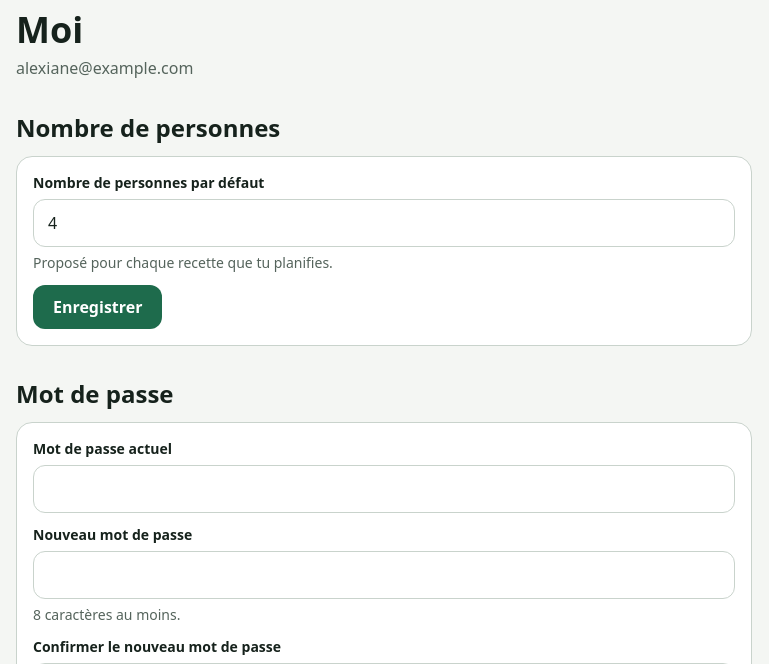
Test: réglages du compte › refuse moins d’une personne sans appeler le back
The width and height of the screenshot is (769, 664).
Replace the text in the number field labelled "Nombre de personnes par défaut" with "0": (384, 223) [33,199,735,247]
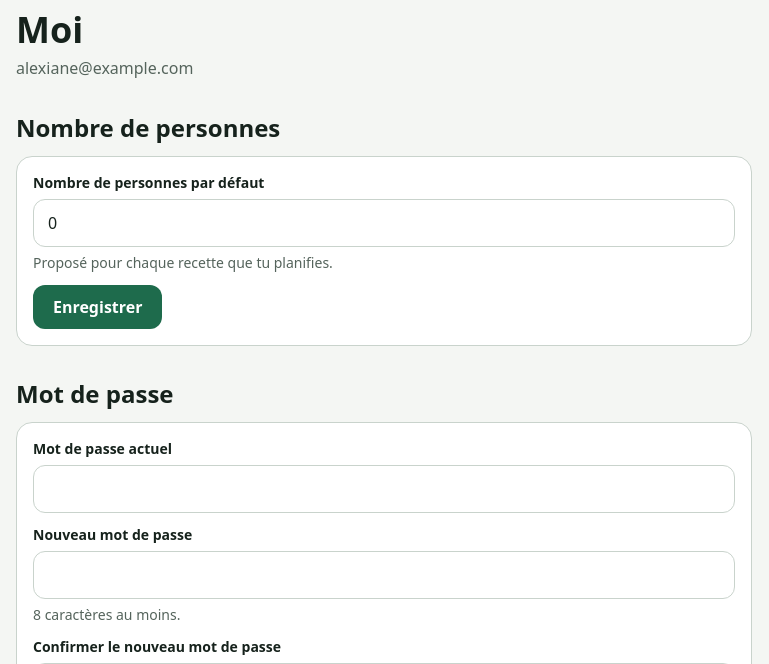
Submit the form that starts with "Nombre de personnes par défaut", box [16,156,752,346]
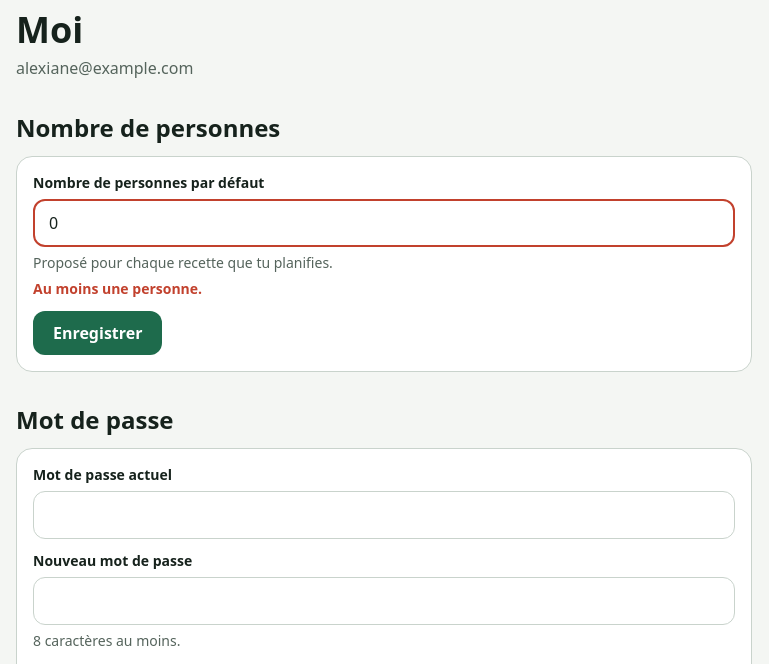
Now the text "Au moins une personne." is shown, box [33,279,202,298]
